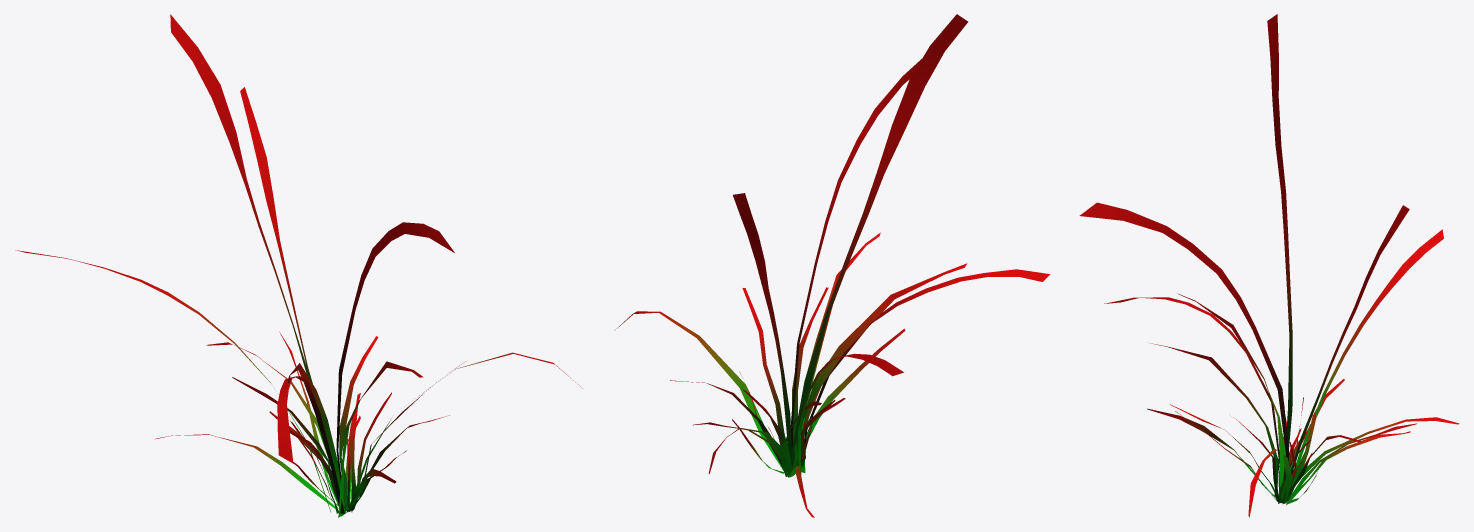
File: rbEla_Var1_LOD0.fbx
3 renders of one model, left to right at view 1: azimuth 30°, elevation 25°; view 2: azimuth 150°, elevation 25°; view 3: azimuth 270°, elevation 25°, orthographic. The views are drawn at different scales.
Parts seen in each view (by area): view 1: _fc61_Var1_LOD0; view 2: _fc61_Var1_LOD0; view 3: _fc61_Var1_LOD0.
Boxes of the visible parts, left/top/right/bottom form: _fc61_Var1_LOD0: left=15, top=14, right=582, bottom=517; _fc61_Var1_LOD0: left=614, top=14, right=1050, bottom=517; _fc61_Var1_LOD0: left=1079, top=14, right=1459, bottom=517.
Bounding box in the file's own units: 54.63 × 64.16 × 52.36.
